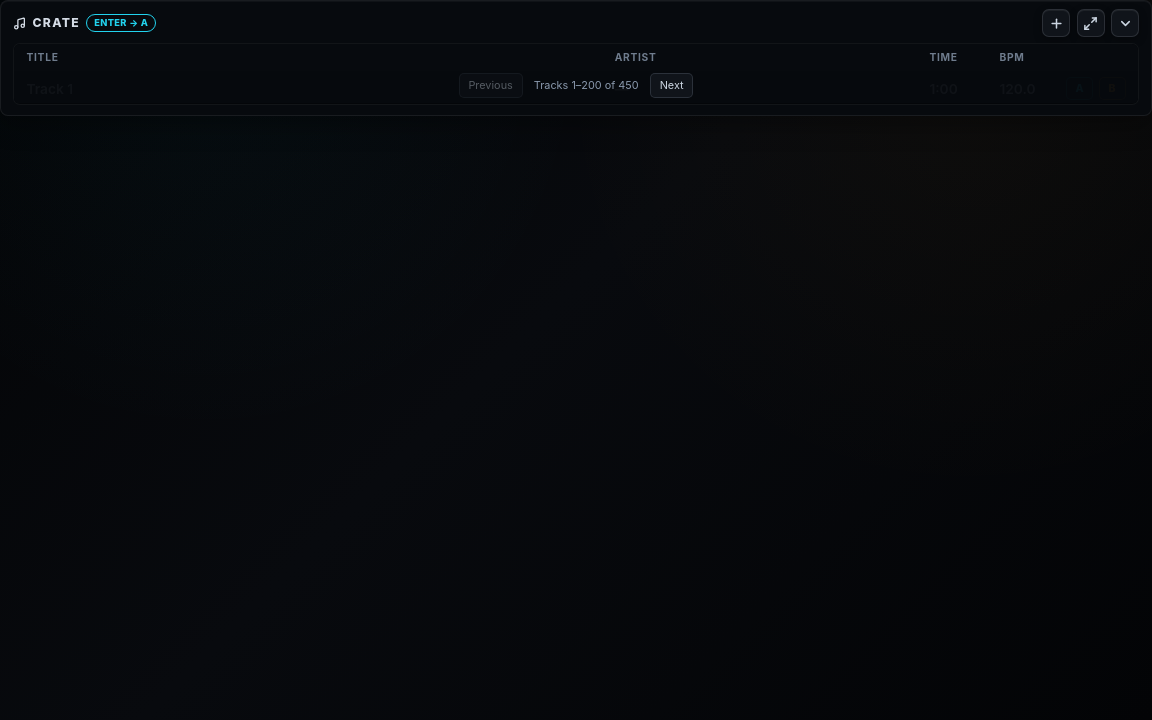
Test: LibraryPanel › windows large libraries and provides accessible page navigation
Check: the text "Track 201" is not shown
What coordinates should you click on to do the following:
click the button "Next"
I would click on:
 (672, 86)
Its box is [650,73,693,98].
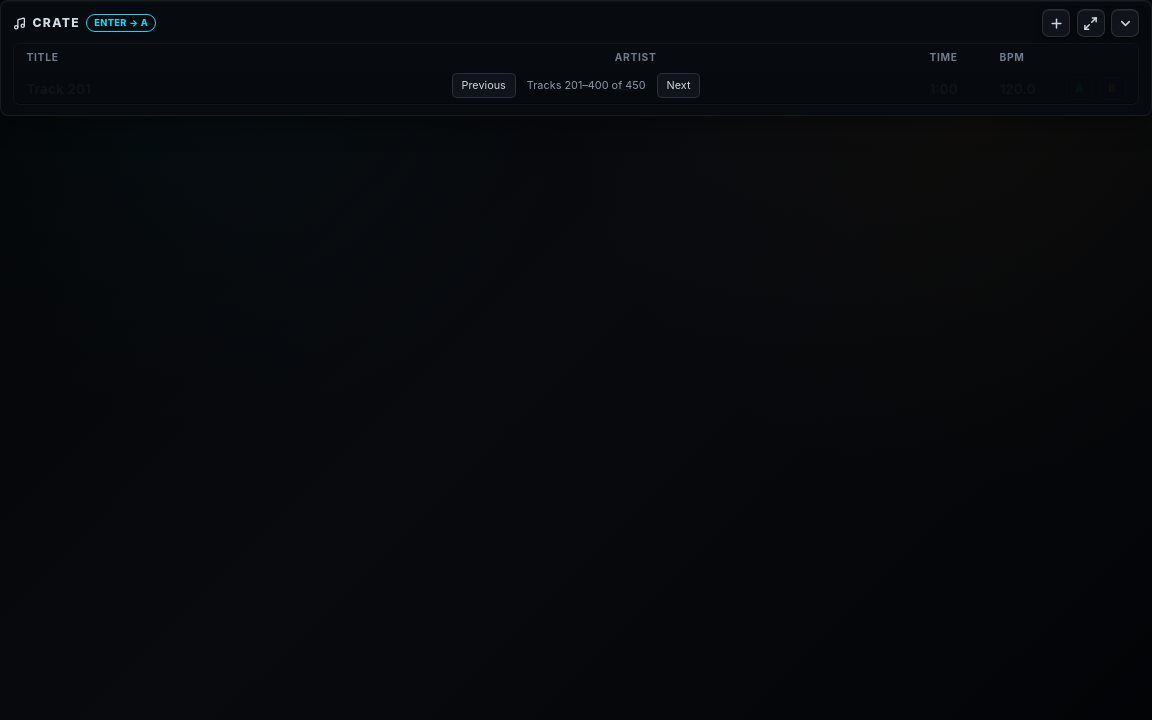
Check: the text "Tracks 201–400 of 450" is shown, box [527,78,646,94]
